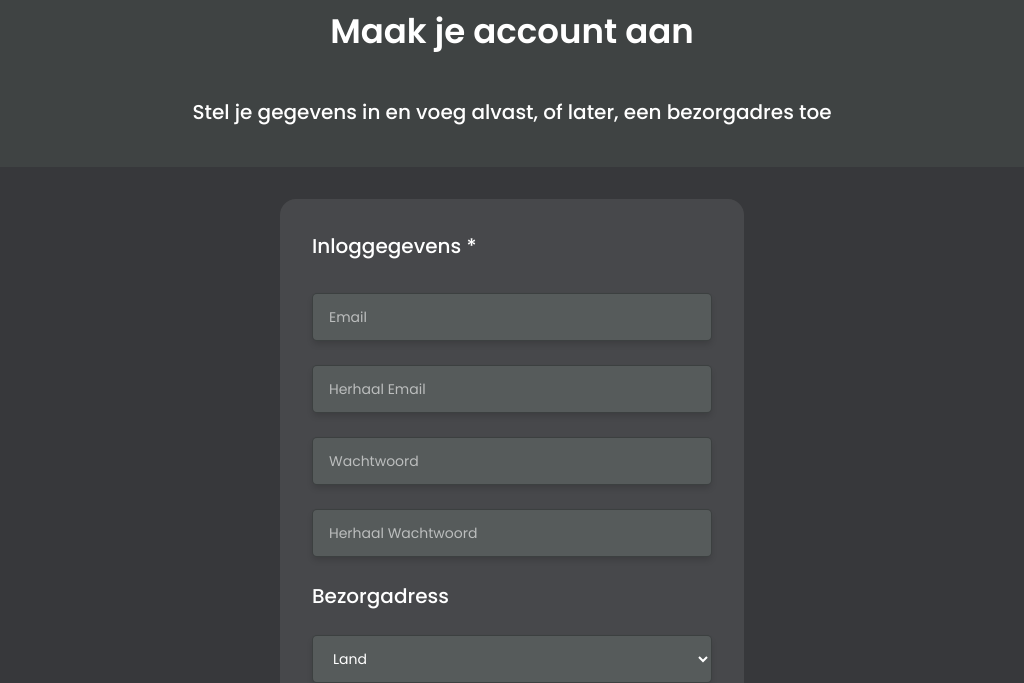
Test: RegisterPage › toont fout als emails niet overeenkomen
The image size is (1024, 683).
Type "jan@example.com" into the field with placeholder "Email" at (512, 317), box [312,293,712,341]
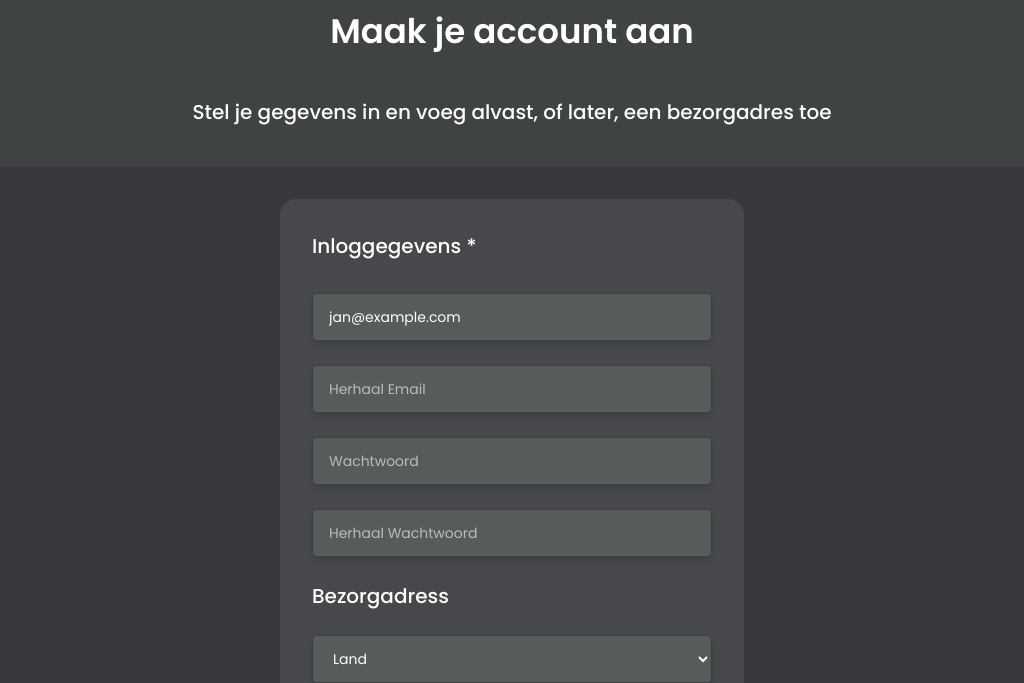
Type "anders@example.com" into the field with placeholder "Herhaal Email" at (512, 389), box [312,365,712,413]
(page scrolled)
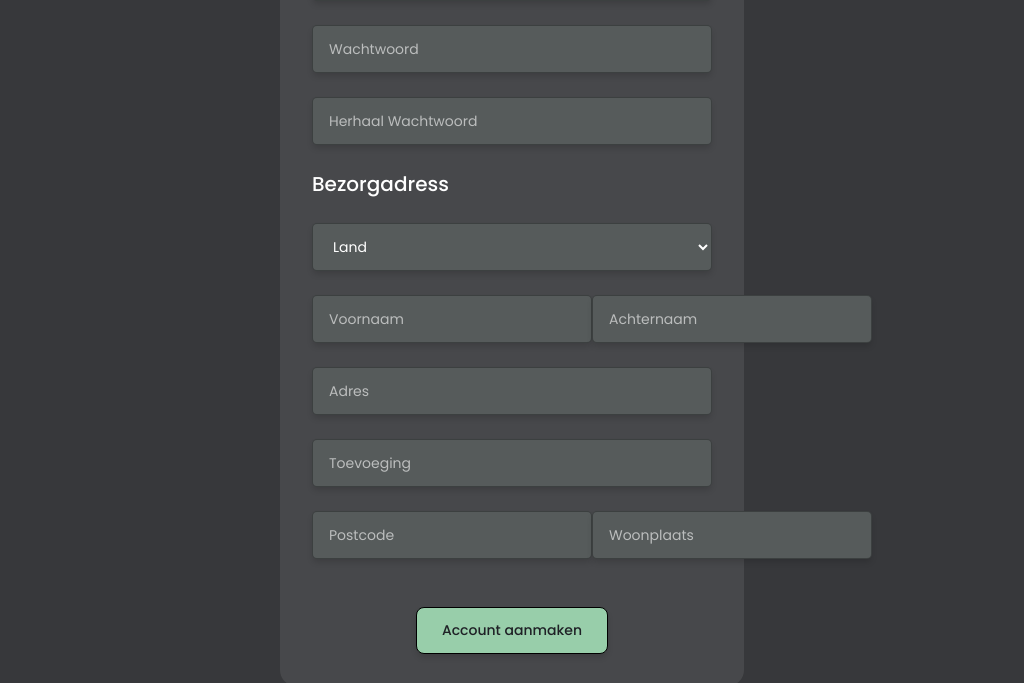
Click the button "Account aanmaken" at (512, 630), box [416,607,608,654]
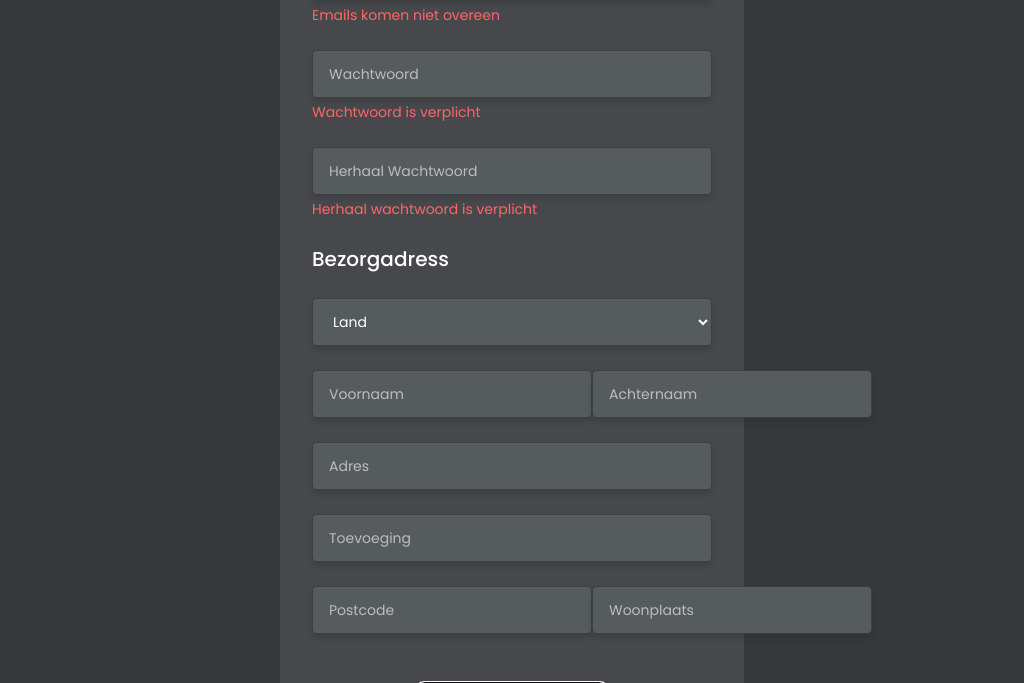
Expected: the text "Emails komen niet overeen" is shown, [312,5,500,25]
